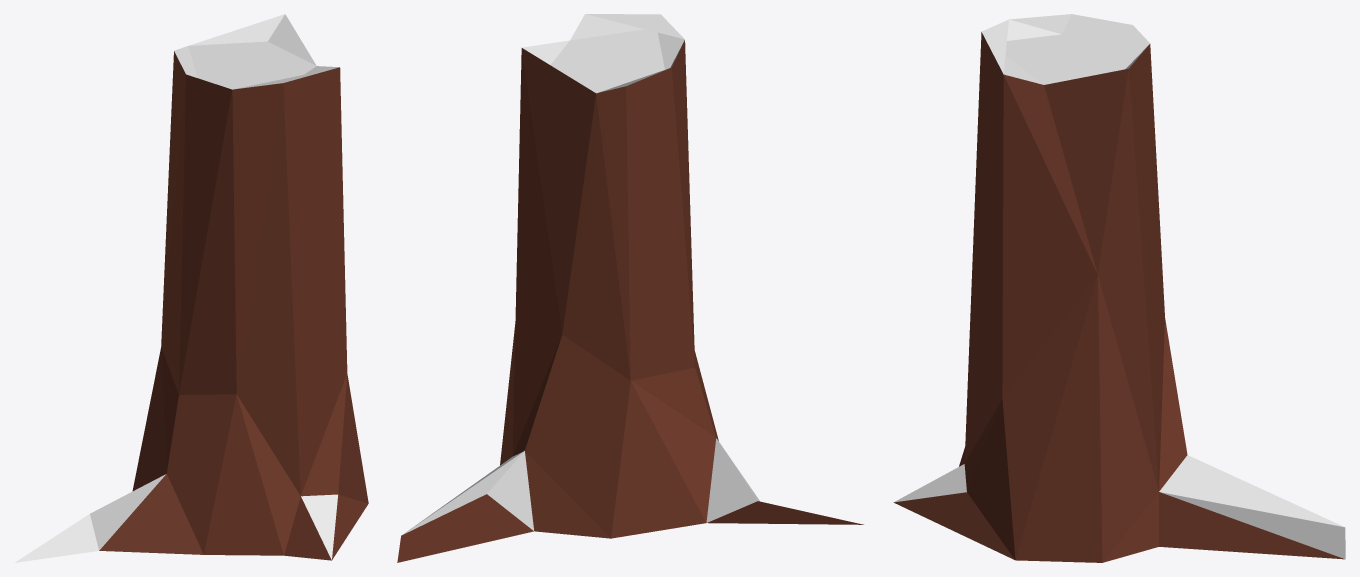
File: pine_trunk_type_6_extra_LOD2.fbx
The picture shows the model from 3 angles, left to right: view 1: azimuth 30°, elevation 25°; view 2: azimuth 150°, elevation 25°; view 3: azimuth 270°, elevation 25°; orthographic projection. The views are drawn at different scales.
Parts seen in each view (by area): view 1: pt_type_6.002; view 2: pt_type_6.002; view 3: pt_type_6.002.
Boxes of the visible parts, bbox=[...] form: pt_type_6.002: bbox=[15, 14, 368, 562]; pt_type_6.002: bbox=[397, 14, 863, 562]; pt_type_6.002: bbox=[893, 14, 1345, 562].
Bounding box in the file's own units: 336 × 424 × 363.
